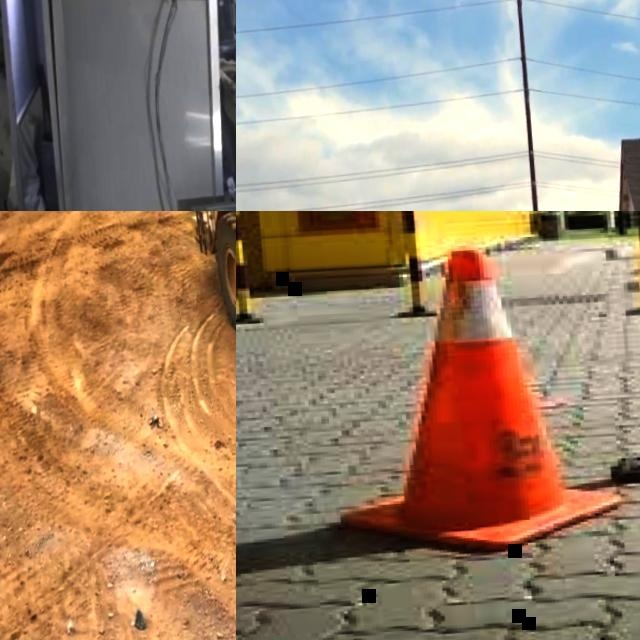Safety Cone: (315, 236, 612, 564)
